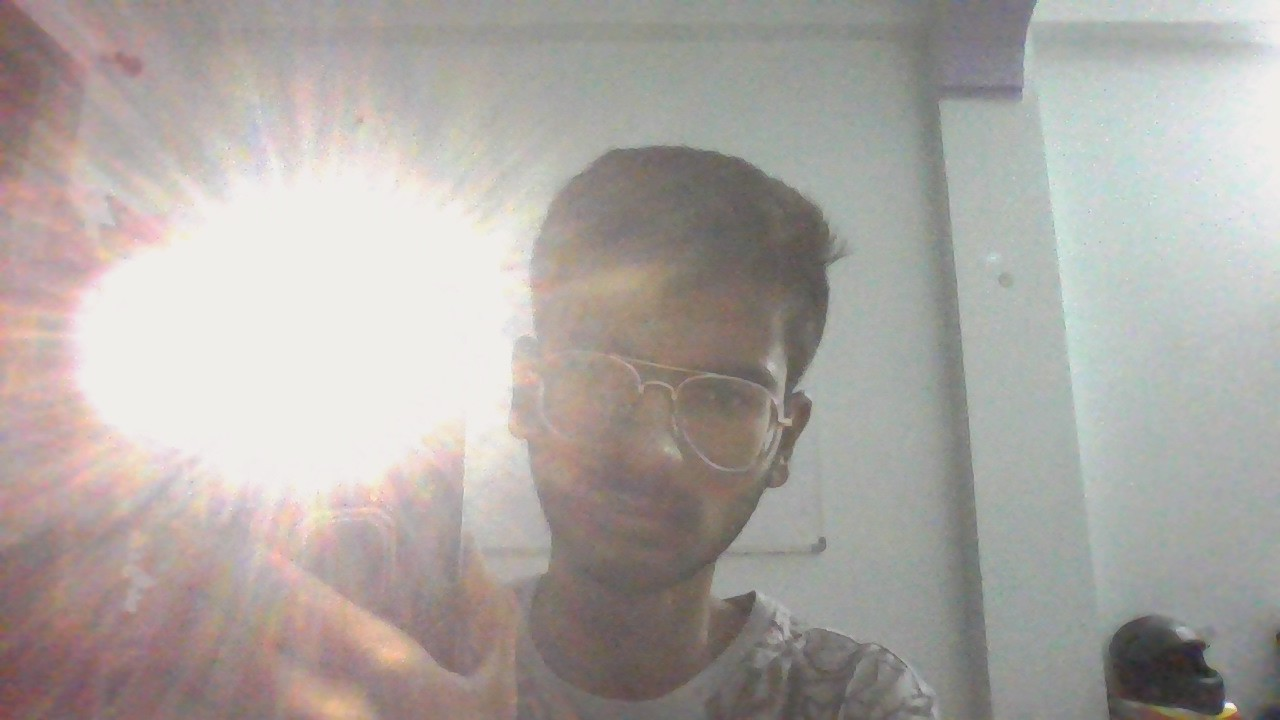Glare: (63, 169, 518, 491)
